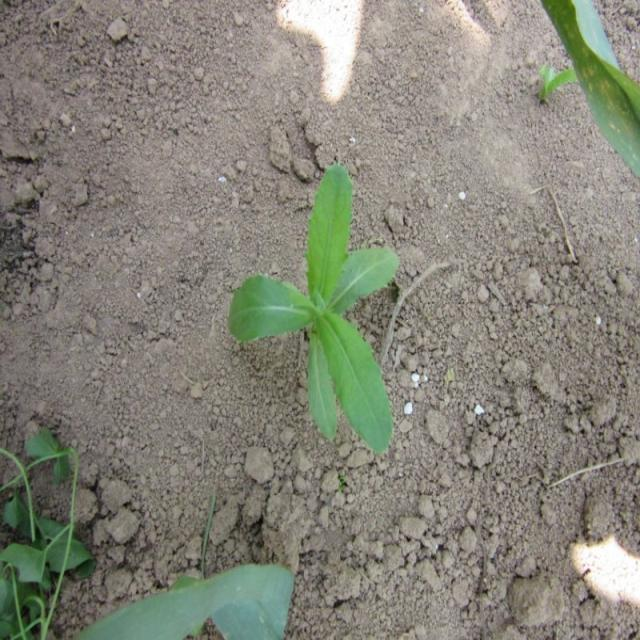field_thistle: (221, 159, 409, 468)
